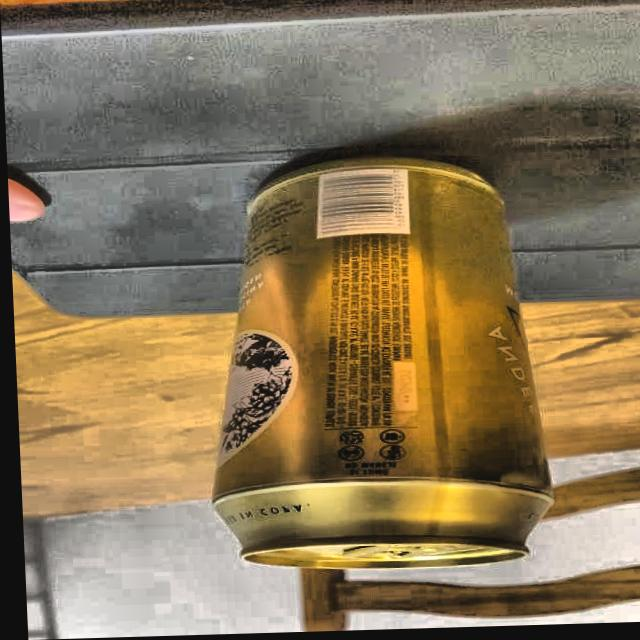can: (195, 147, 559, 585)
